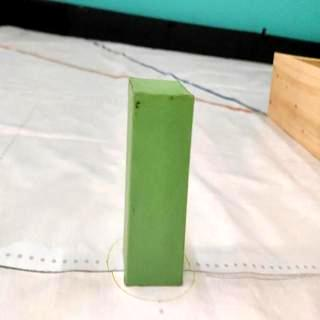greenbox: (124, 74, 196, 286)
